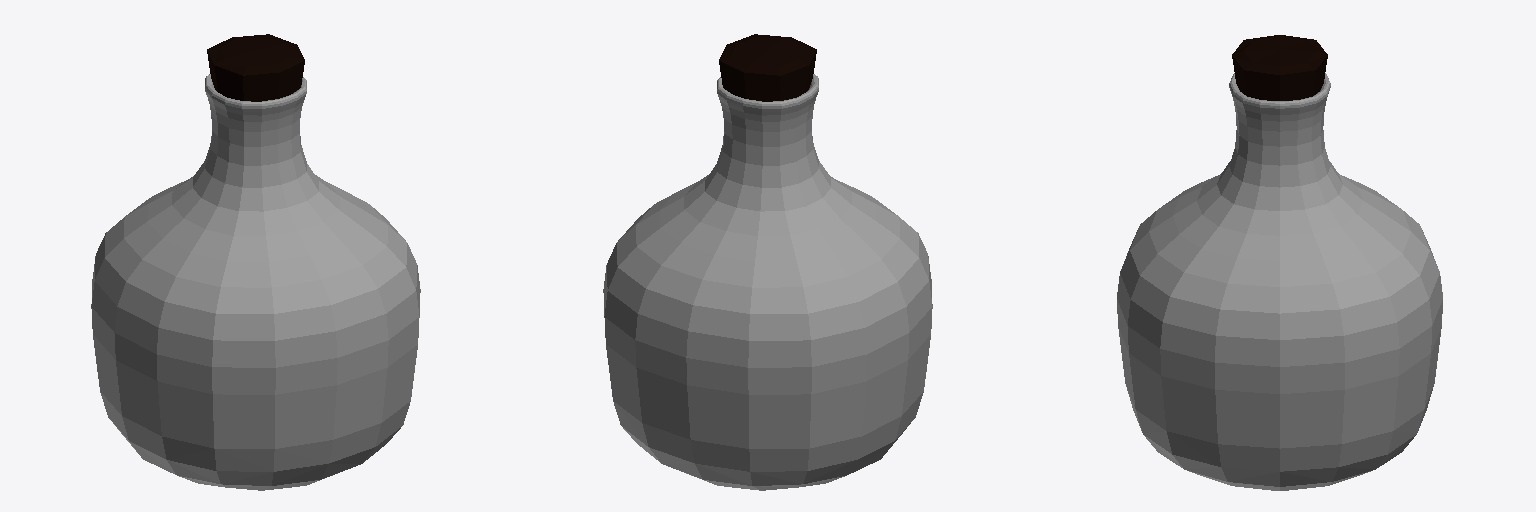
The model's file is Potion2_Filled.obj.
3 renders of one model, left to right at view 1: azimuth 30°, elevation 25°; view 2: azimuth 150°, elevation 25°; view 3: azimuth 270°, elevation 25°, orthographic.
Visible parts, largest first — view 1: Potion2_Filled_Cube.000; view 2: Potion2_Filled_Cube.000; view 3: Potion2_Filled_Cube.000.
Part boxes in pixels (bbox=[...]): Potion2_Filled_Cube.000: bbox=[91, 34, 420, 490]; Potion2_Filled_Cube.000: bbox=[603, 34, 932, 490]; Potion2_Filled_Cube.000: bbox=[1117, 35, 1442, 490].
Size of the model in its own units: 0.8768 by 1.22 by 0.8768.